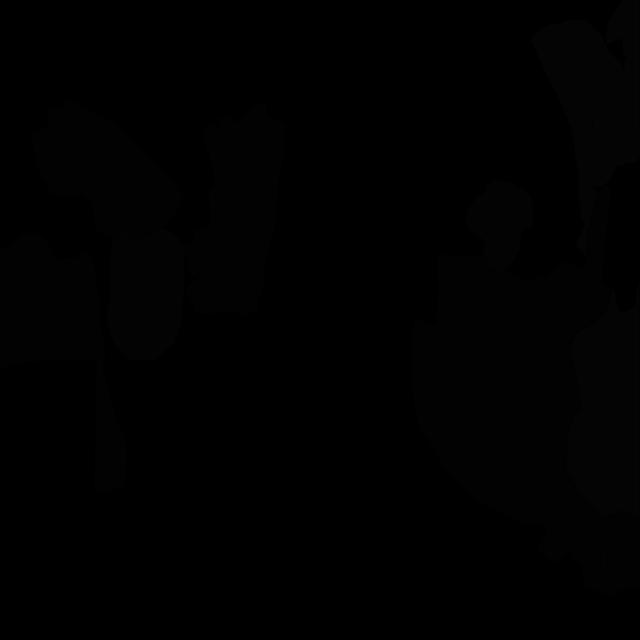cardboard: (412, 253, 612, 577), (0, 252, 127, 493), (181, 102, 285, 316), (31, 100, 184, 240), (0, 232, 58, 330), (582, 511, 640, 598), (586, 186, 612, 288)
metal: (106, 227, 184, 361), (465, 180, 534, 271)
soft_plastic: (531, 20, 624, 258), (566, 281, 640, 521), (585, 0, 640, 188)
